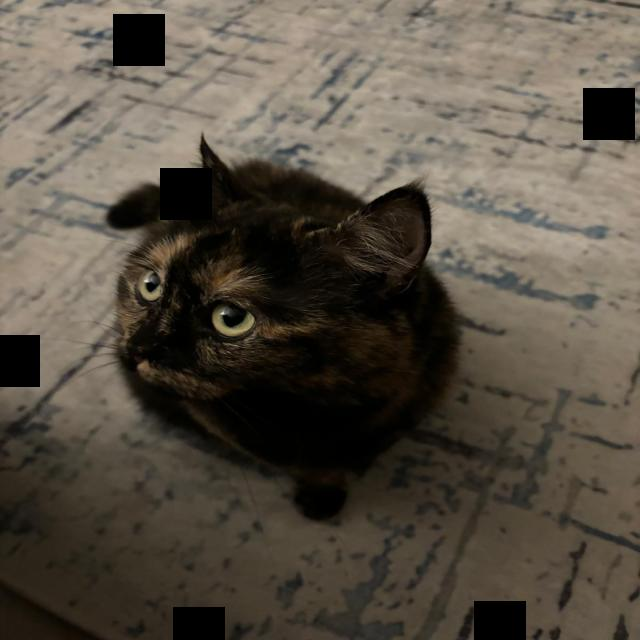authorized: (84, 130, 462, 522)
